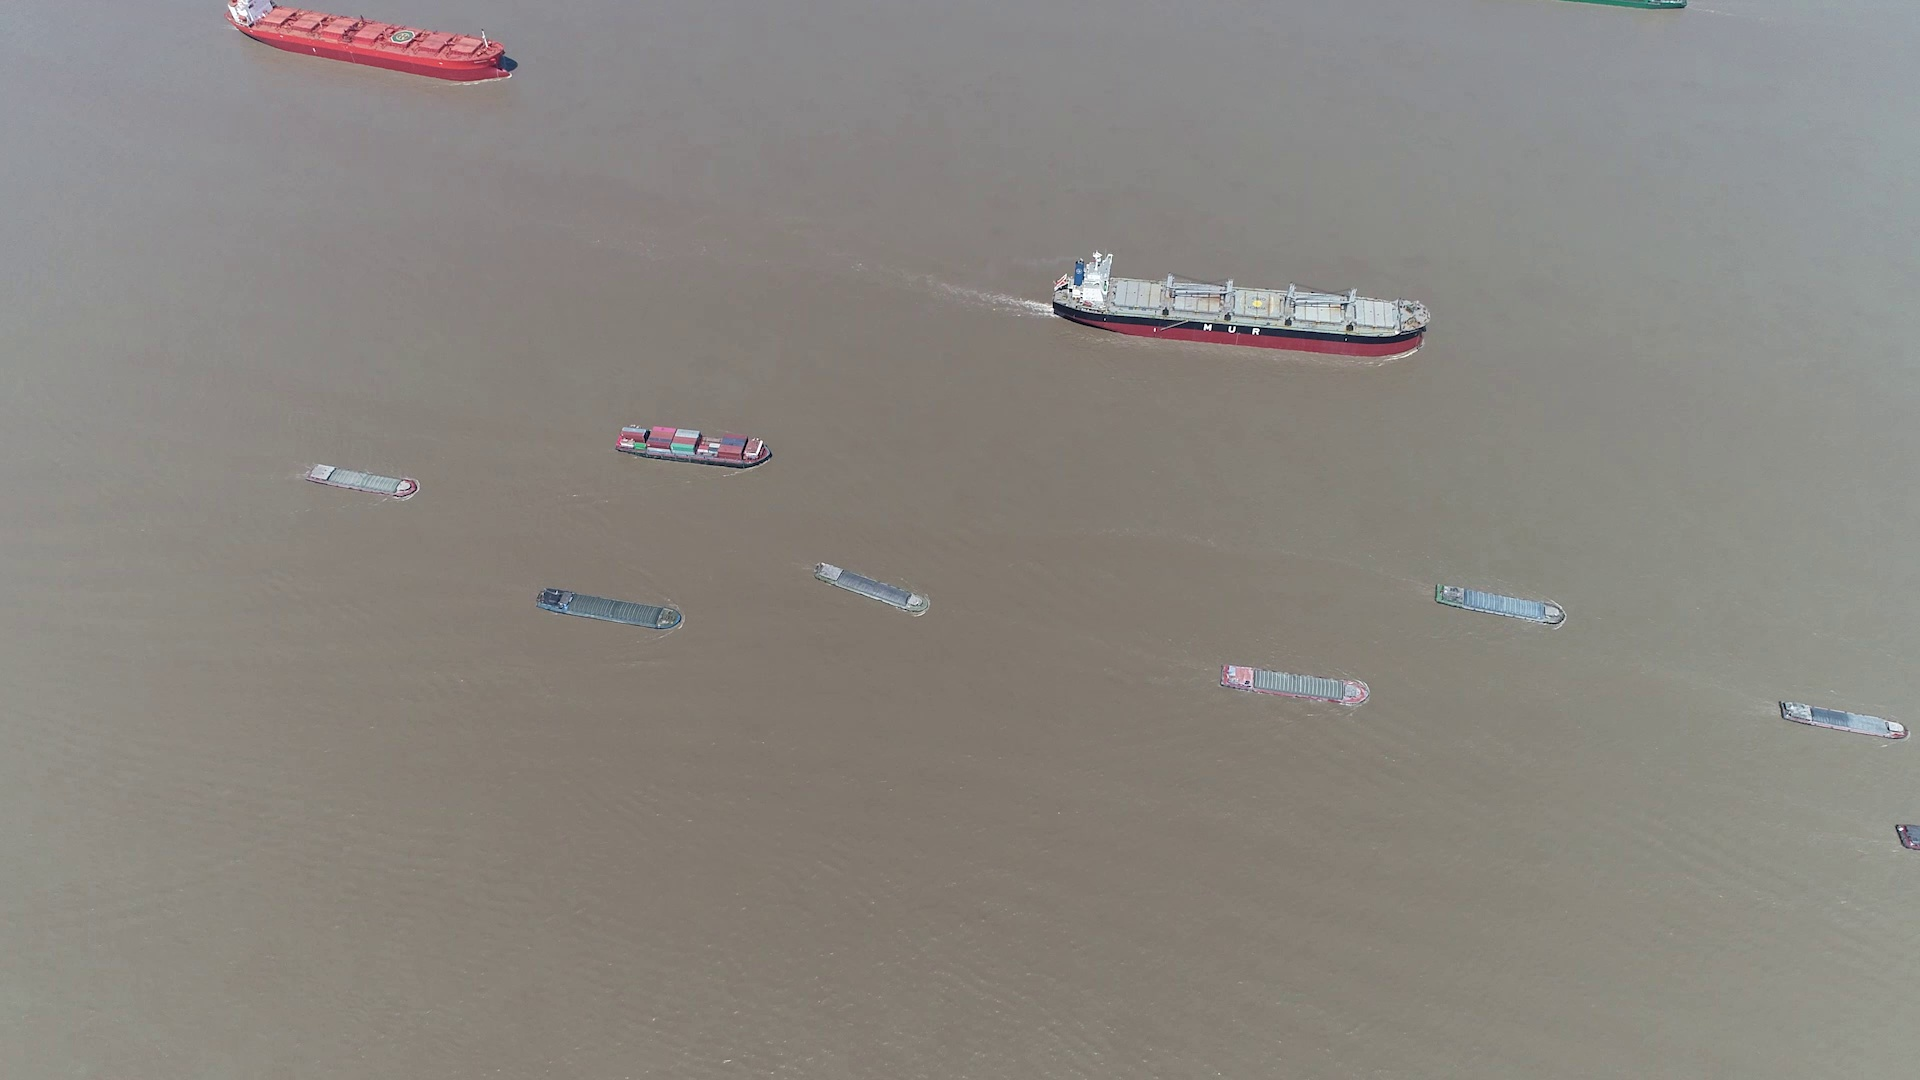ship: (1052, 256, 1431, 353), (225, 0, 516, 80), (615, 423, 773, 469), (534, 588, 684, 633), (1221, 665, 1371, 703), (1436, 582, 1568, 625), (815, 564, 928, 615), (1776, 699, 1907, 741), (305, 462, 421, 498), (1569, 0, 1685, 11)
